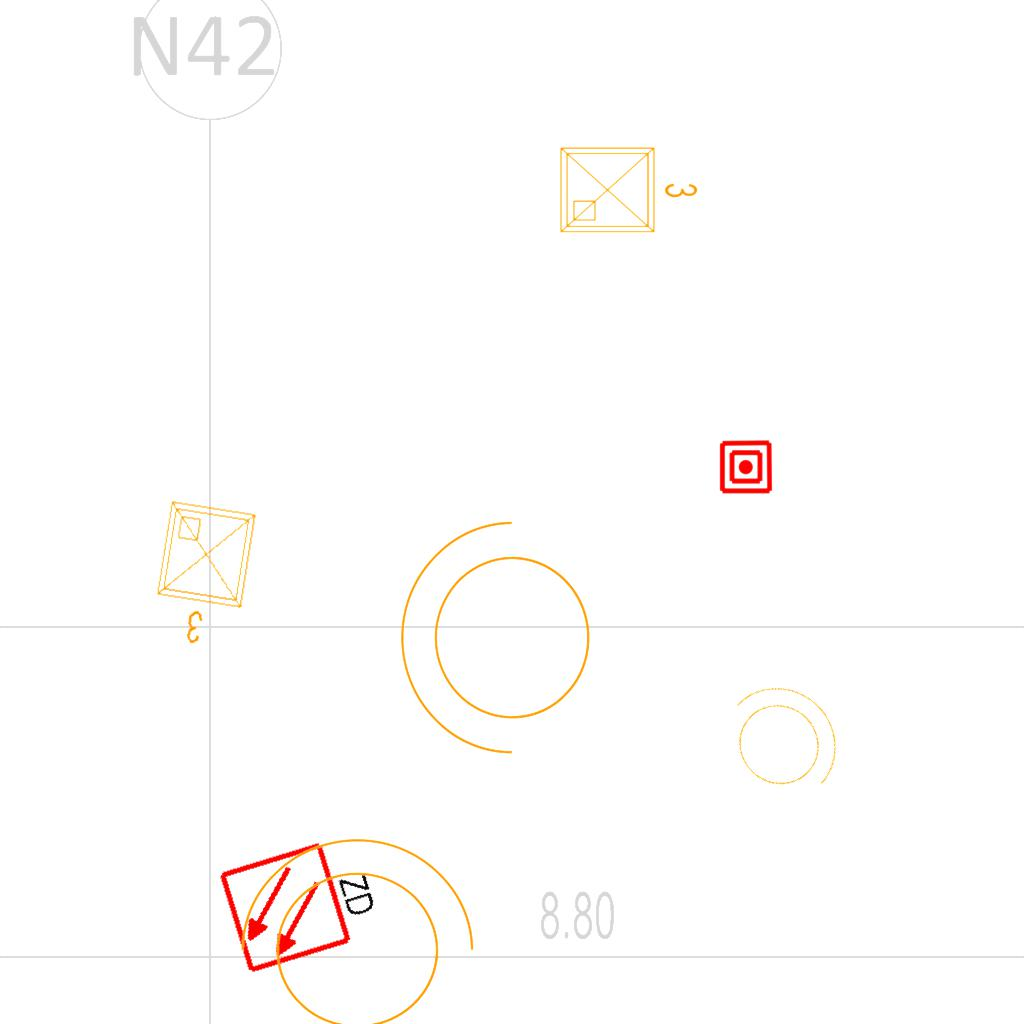Einbaudownlights_LED_Konferenzraeume: (141, 492, 269, 658), (553, 136, 703, 240)
NAM-Nichtautomatischer_Melder: (718, 439, 774, 495)
Scheinwerfer_fuer_Alarmbeleuchtung: (390, 512, 615, 776), (219, 828, 483, 1024), (693, 653, 867, 825)
ZD_Melder_in_Zwischendecke_mit_Revisionsoeffnung_mind_40_x_40_cm: (215, 824, 391, 977)
